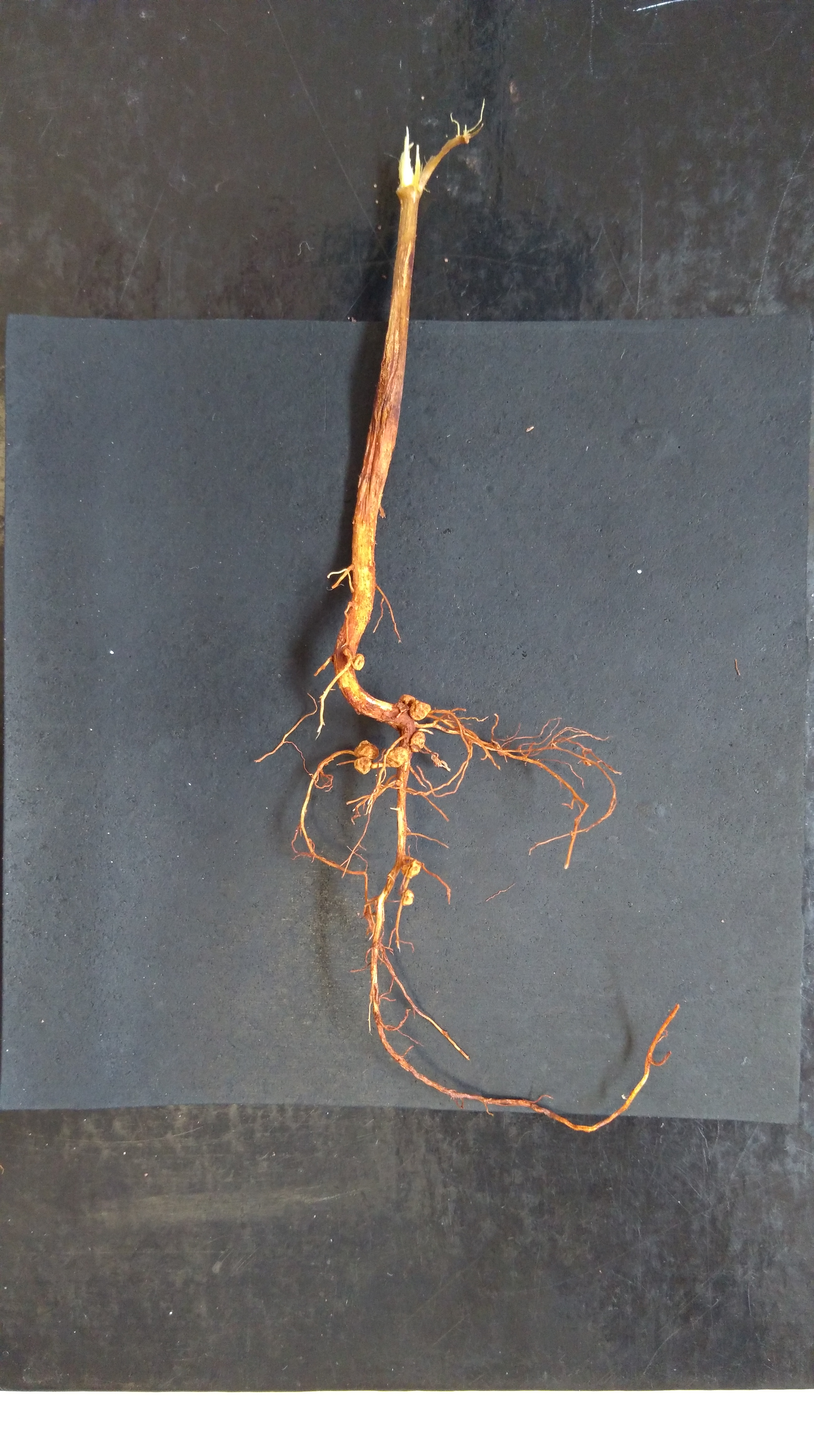nodule: (352, 738, 381, 761), (385, 745, 409, 768), (409, 699, 431, 722), (400, 859, 424, 879), (409, 730, 425, 754), (351, 757, 371, 776), (351, 651, 366, 672), (401, 888, 416, 908), (399, 693, 416, 706), (394, 778, 403, 786)
